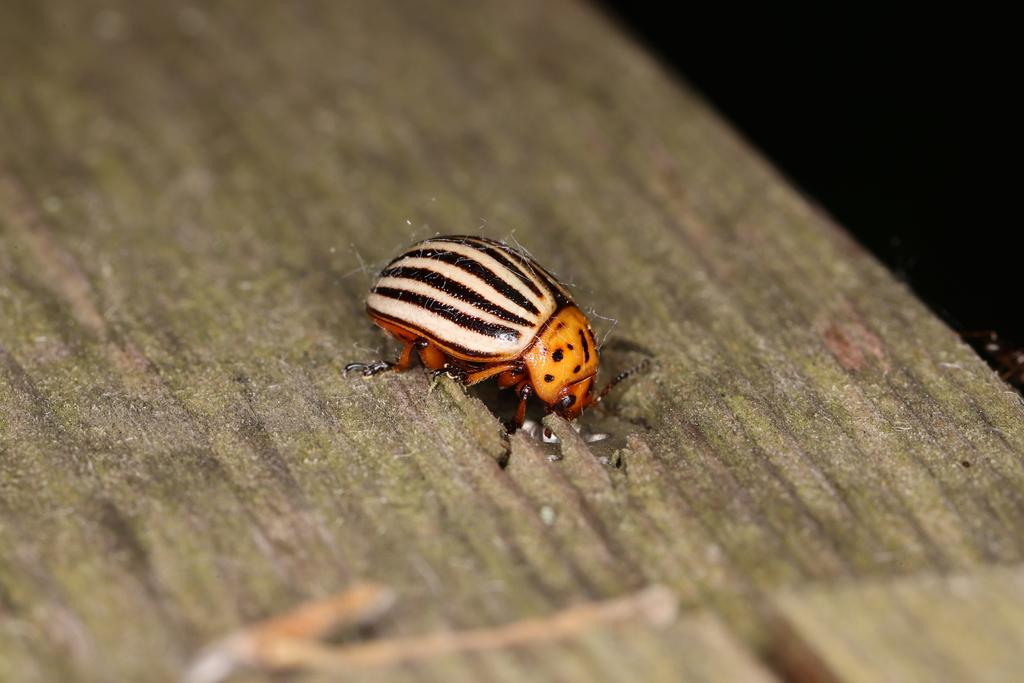potato_beetle: (299, 196, 713, 505)
